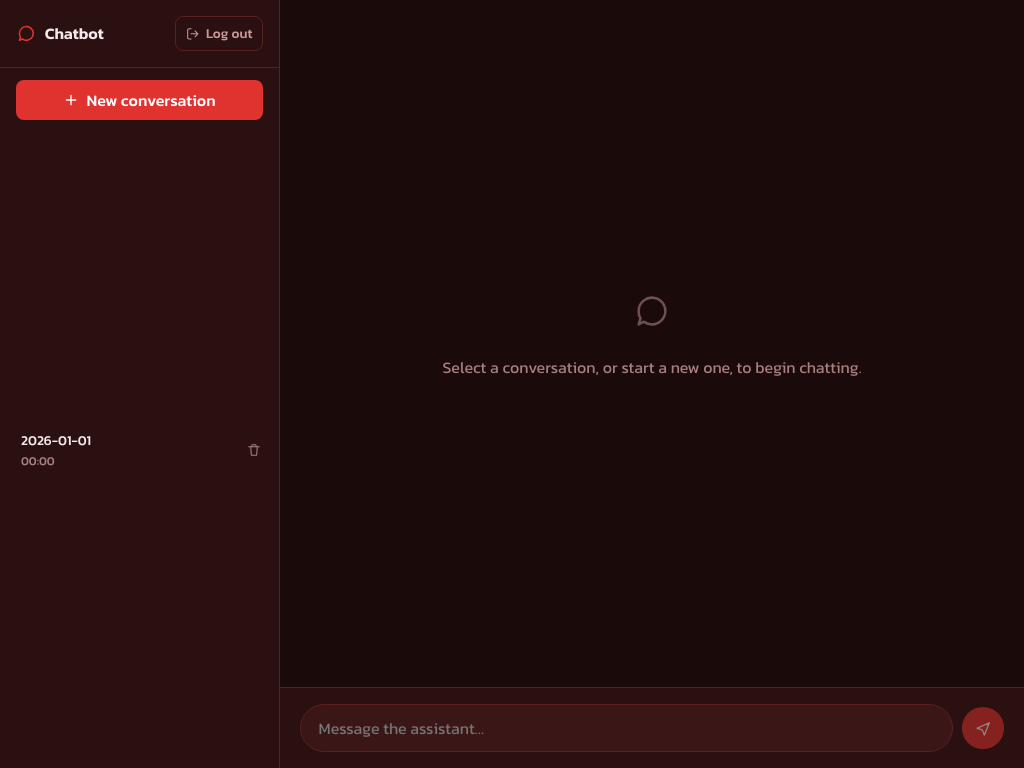
Test: sending a message shows it immediately and streams the assistant reply
This screenshot has width=1024, height=768.
Click the button "2026-01-01 00:00" at (121,450), box [10,421,232,479]
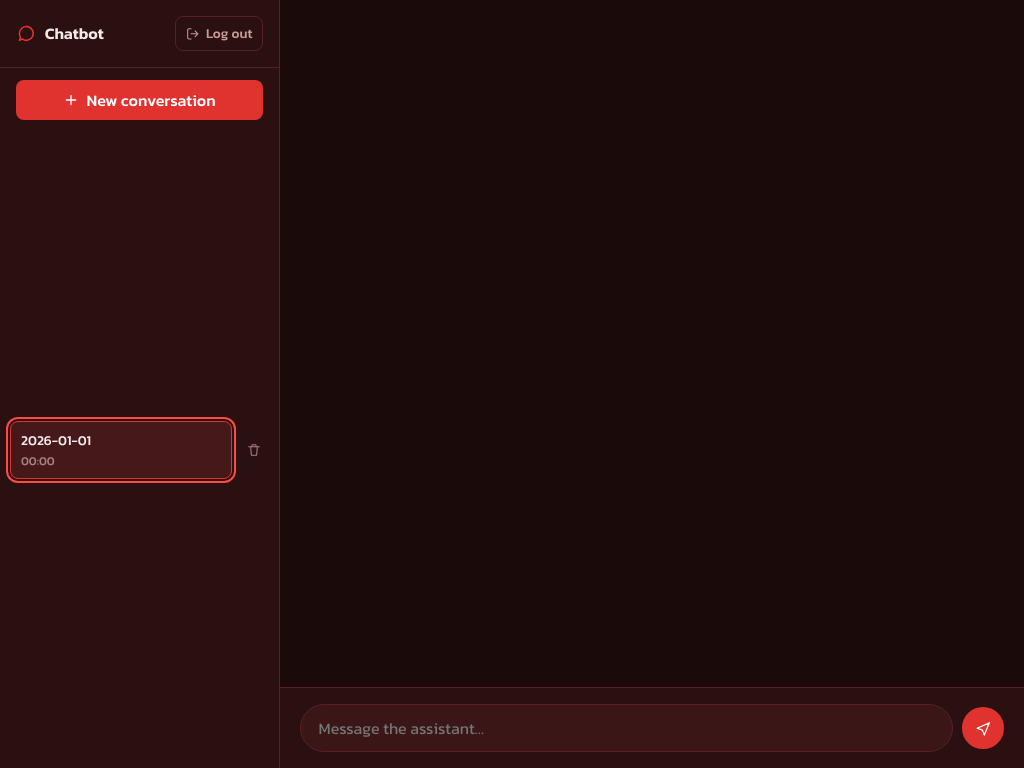
Type "hello" into the field labelled "Message the assistant…" at (626,728), box [300,704,953,752]
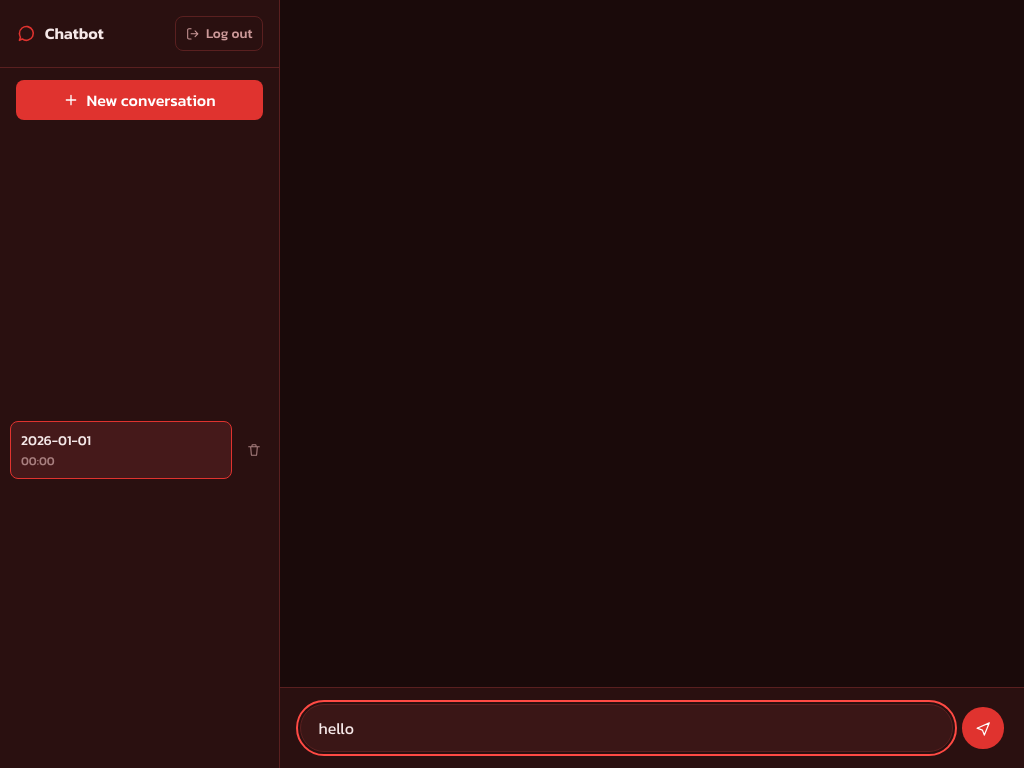
Click the button named "send" at (983,728), box [962,707,1004,749]
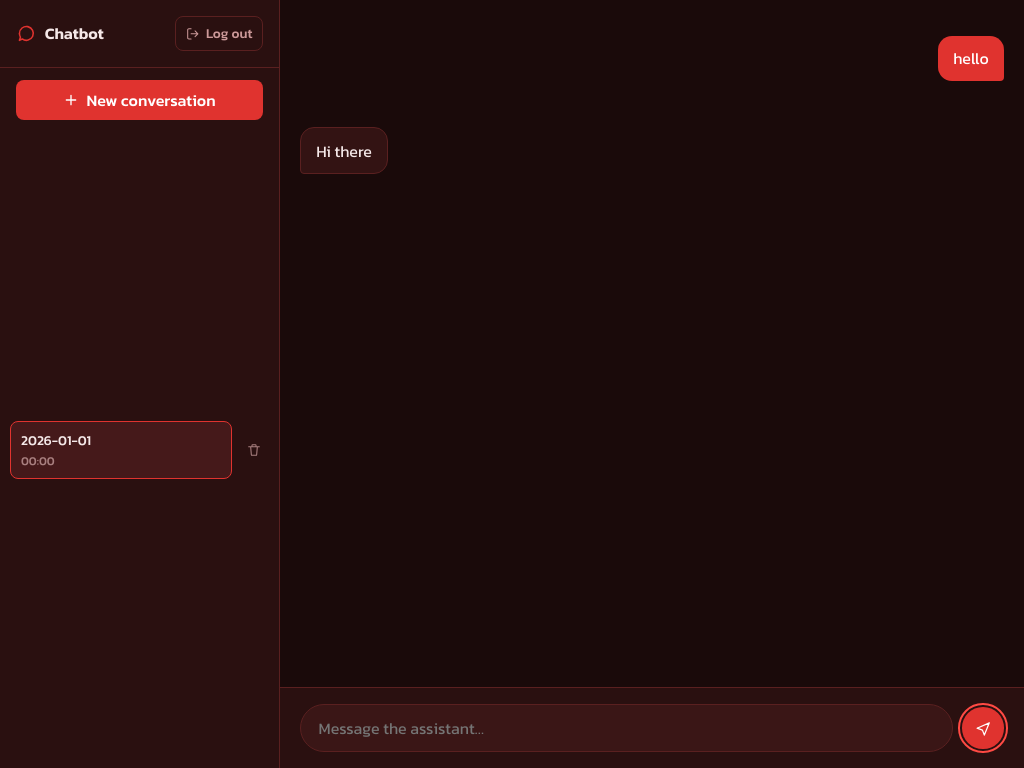
Now the text "hello" is shown, box [938,36,1004,81]
Now the text "Hi there" is shown, box [300,127,388,174]
